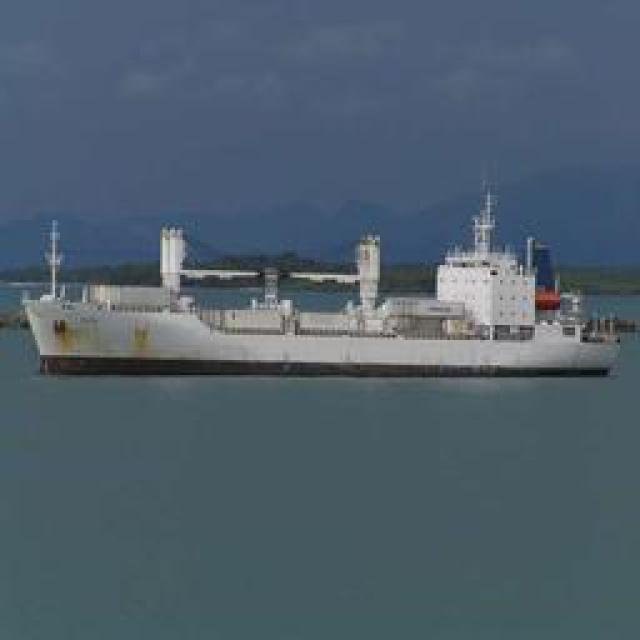Ship: (25, 183, 621, 377)
